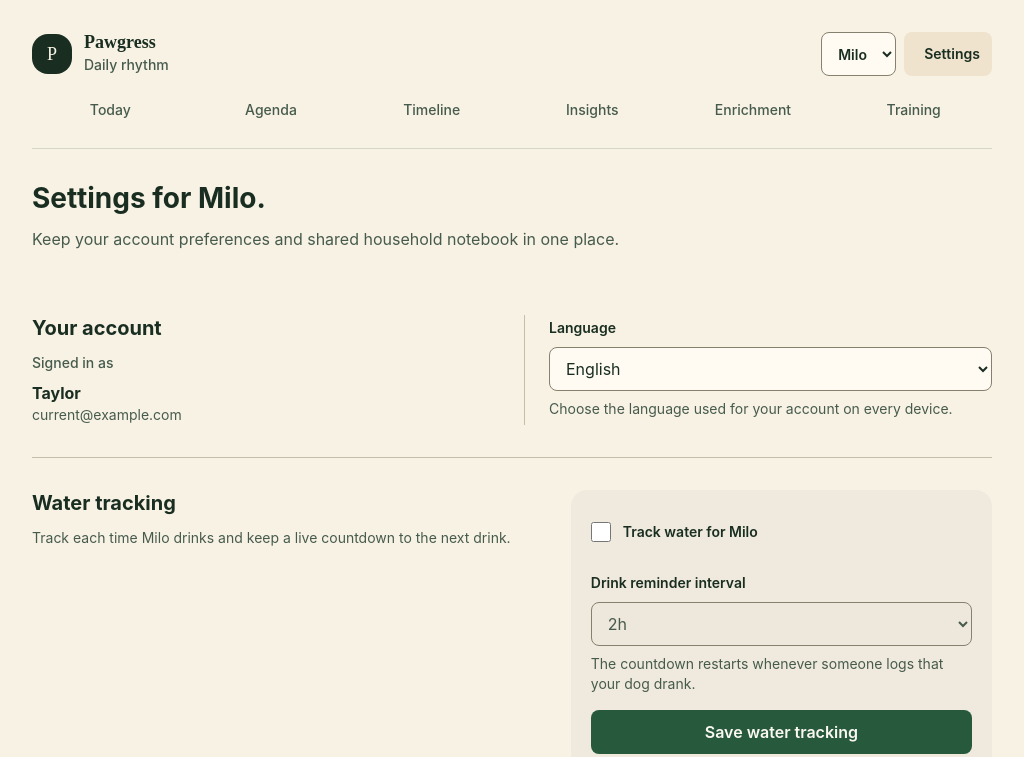
Test: SettingsPage › reverts and focuses a translated alert when language persistence fails
Select "Slovenčina" in the dropdown labelled "Language" at (770, 369), box [549,347,992,391]
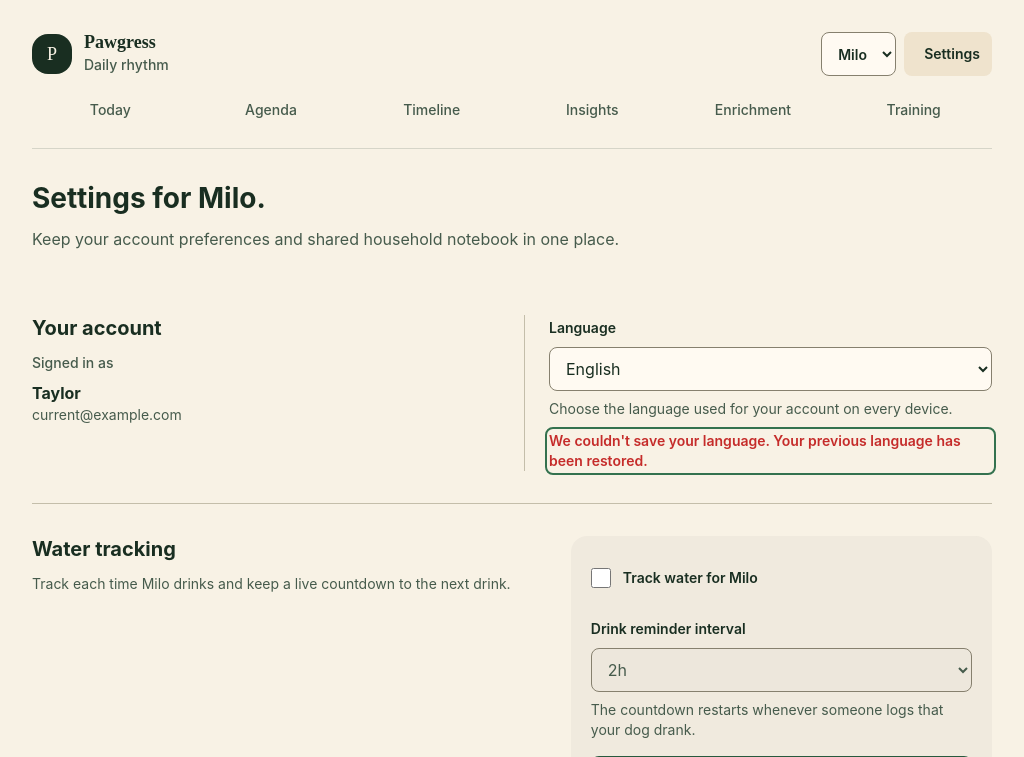
Check: the message shows "previous language has been restored", box [549,432,961,469]
